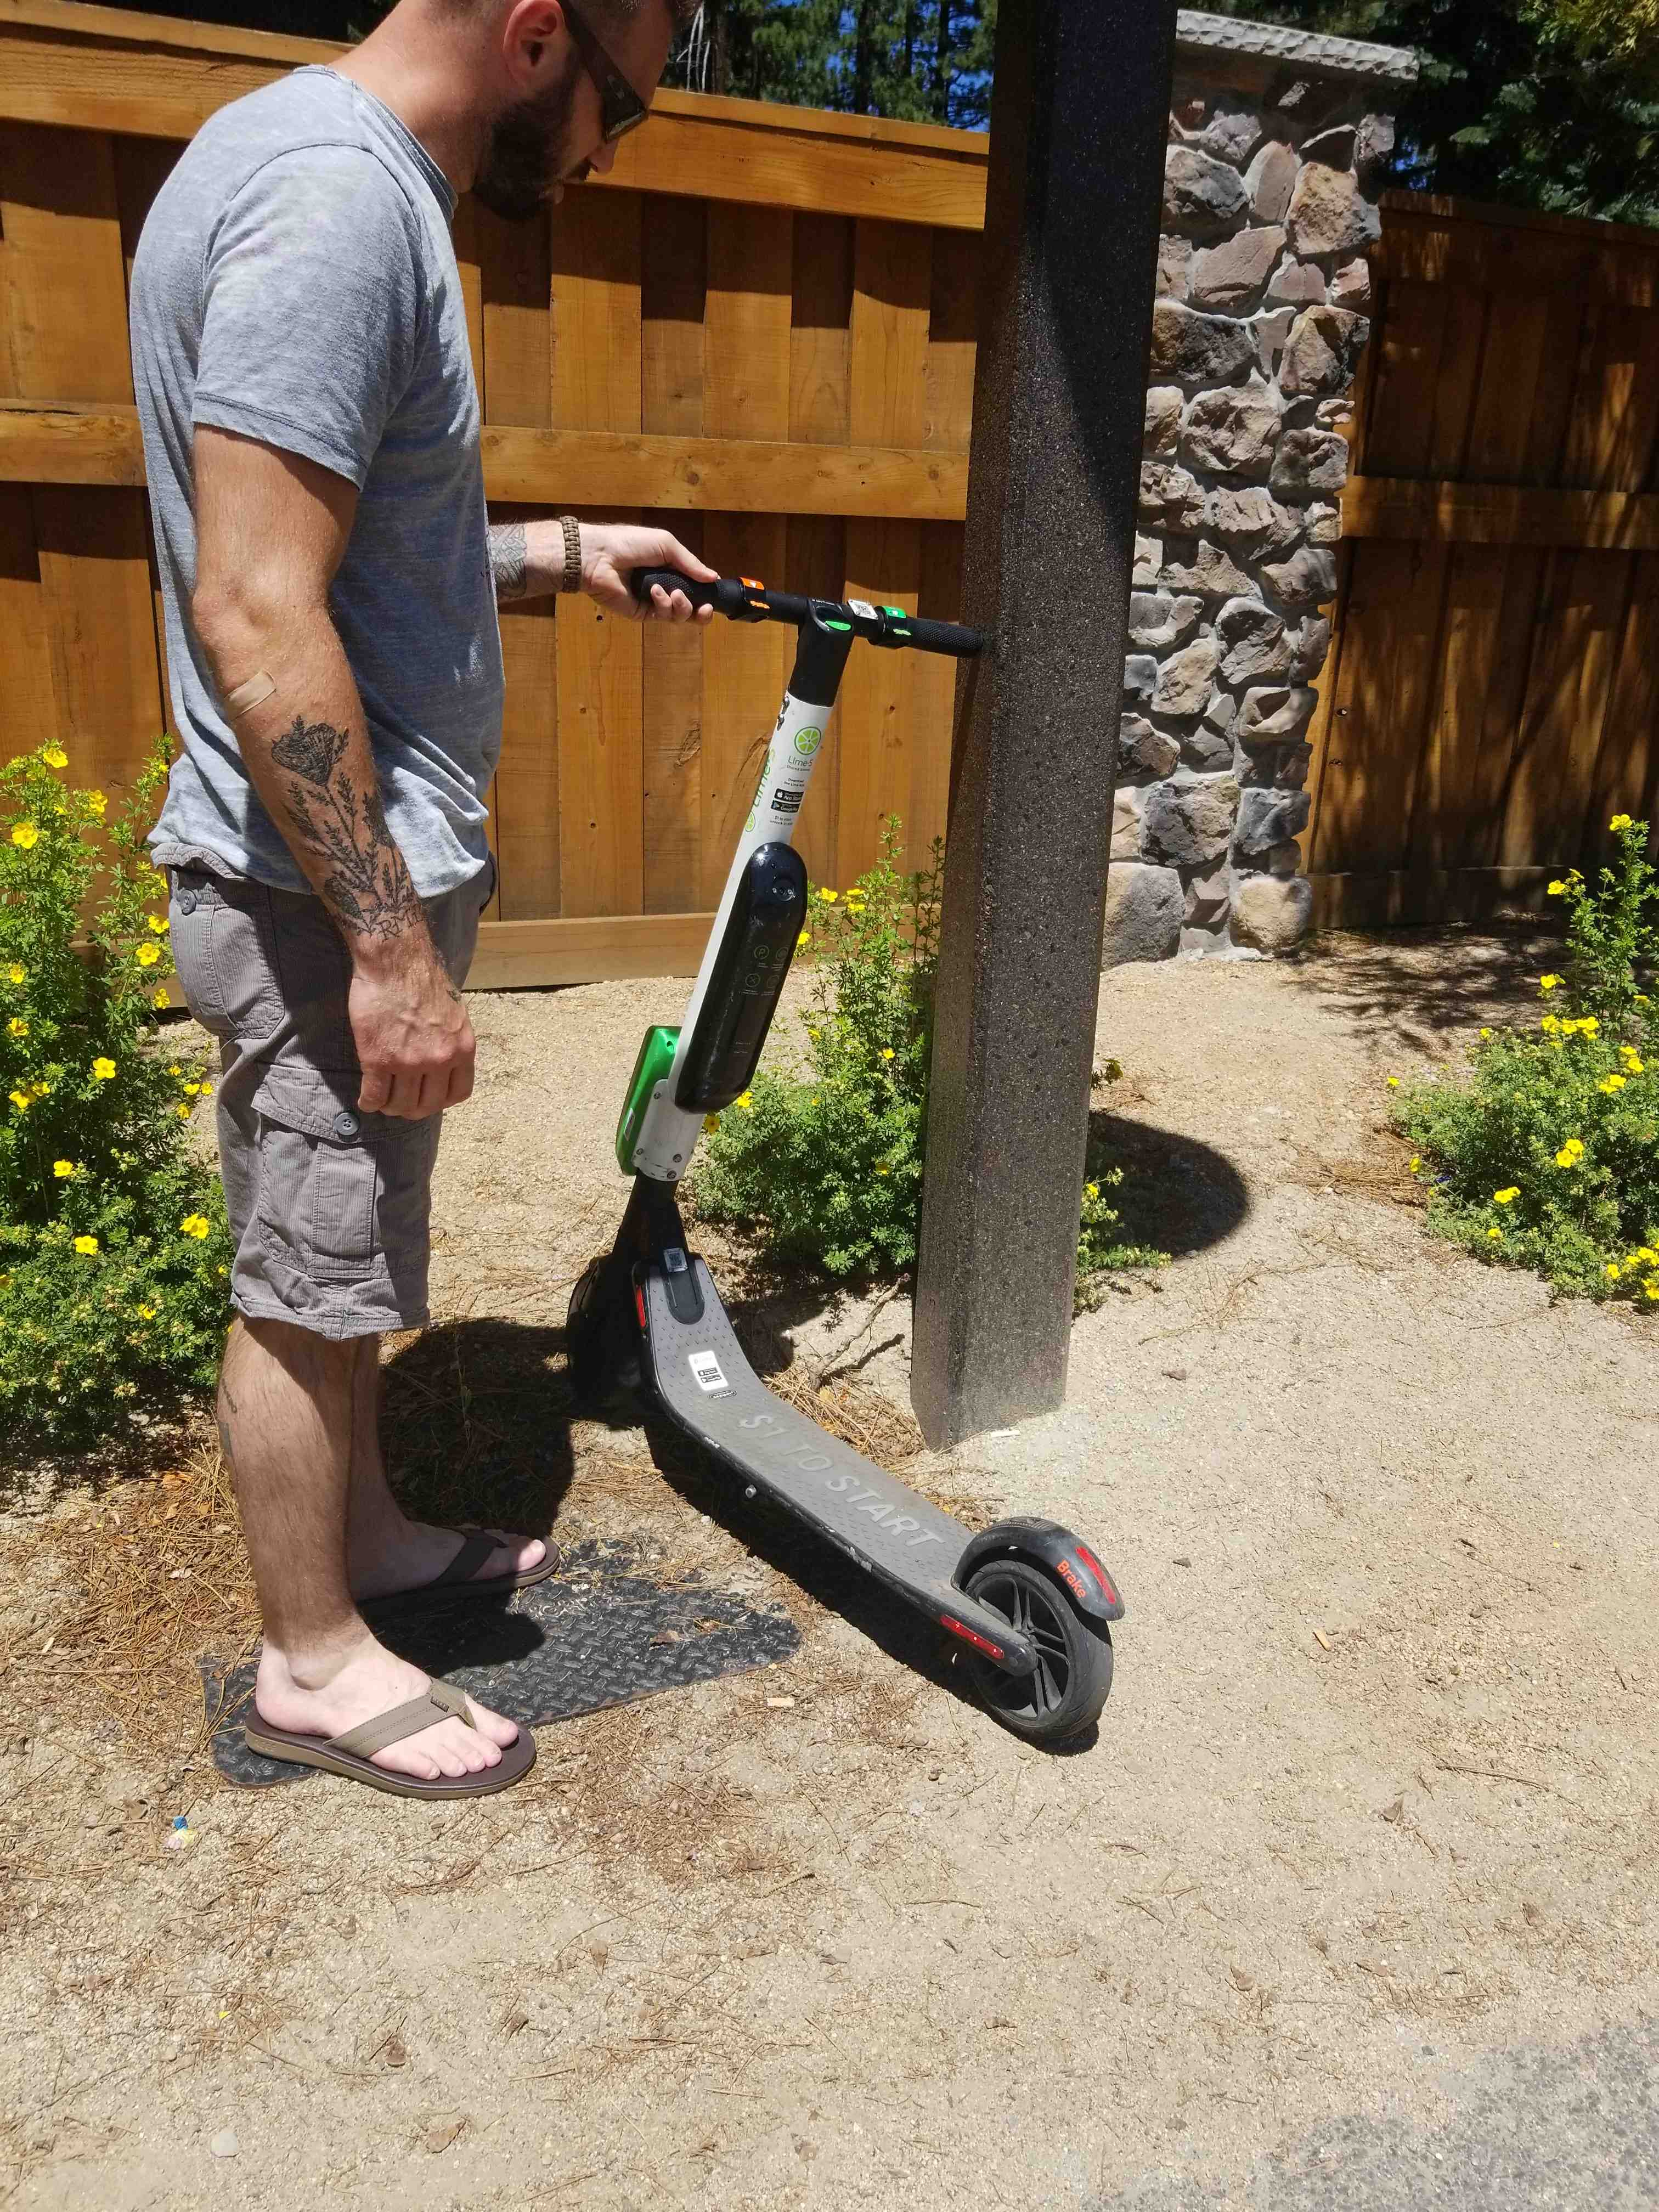scooter: (540, 540, 1129, 1750)
